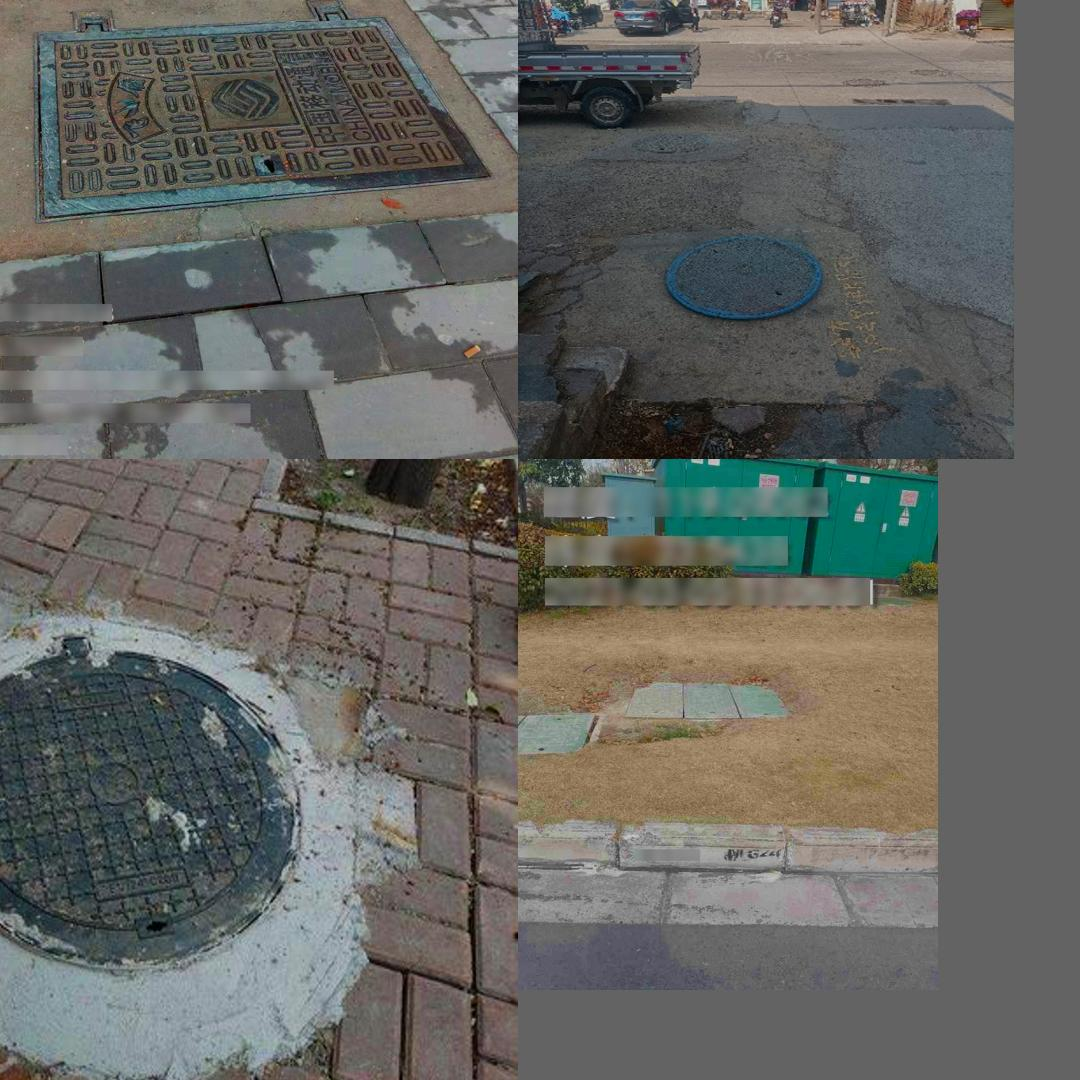good: (0, 608, 365, 1071), (32, 3, 495, 222), (664, 234, 821, 318), (624, 677, 790, 720), (518, 712, 605, 754)
